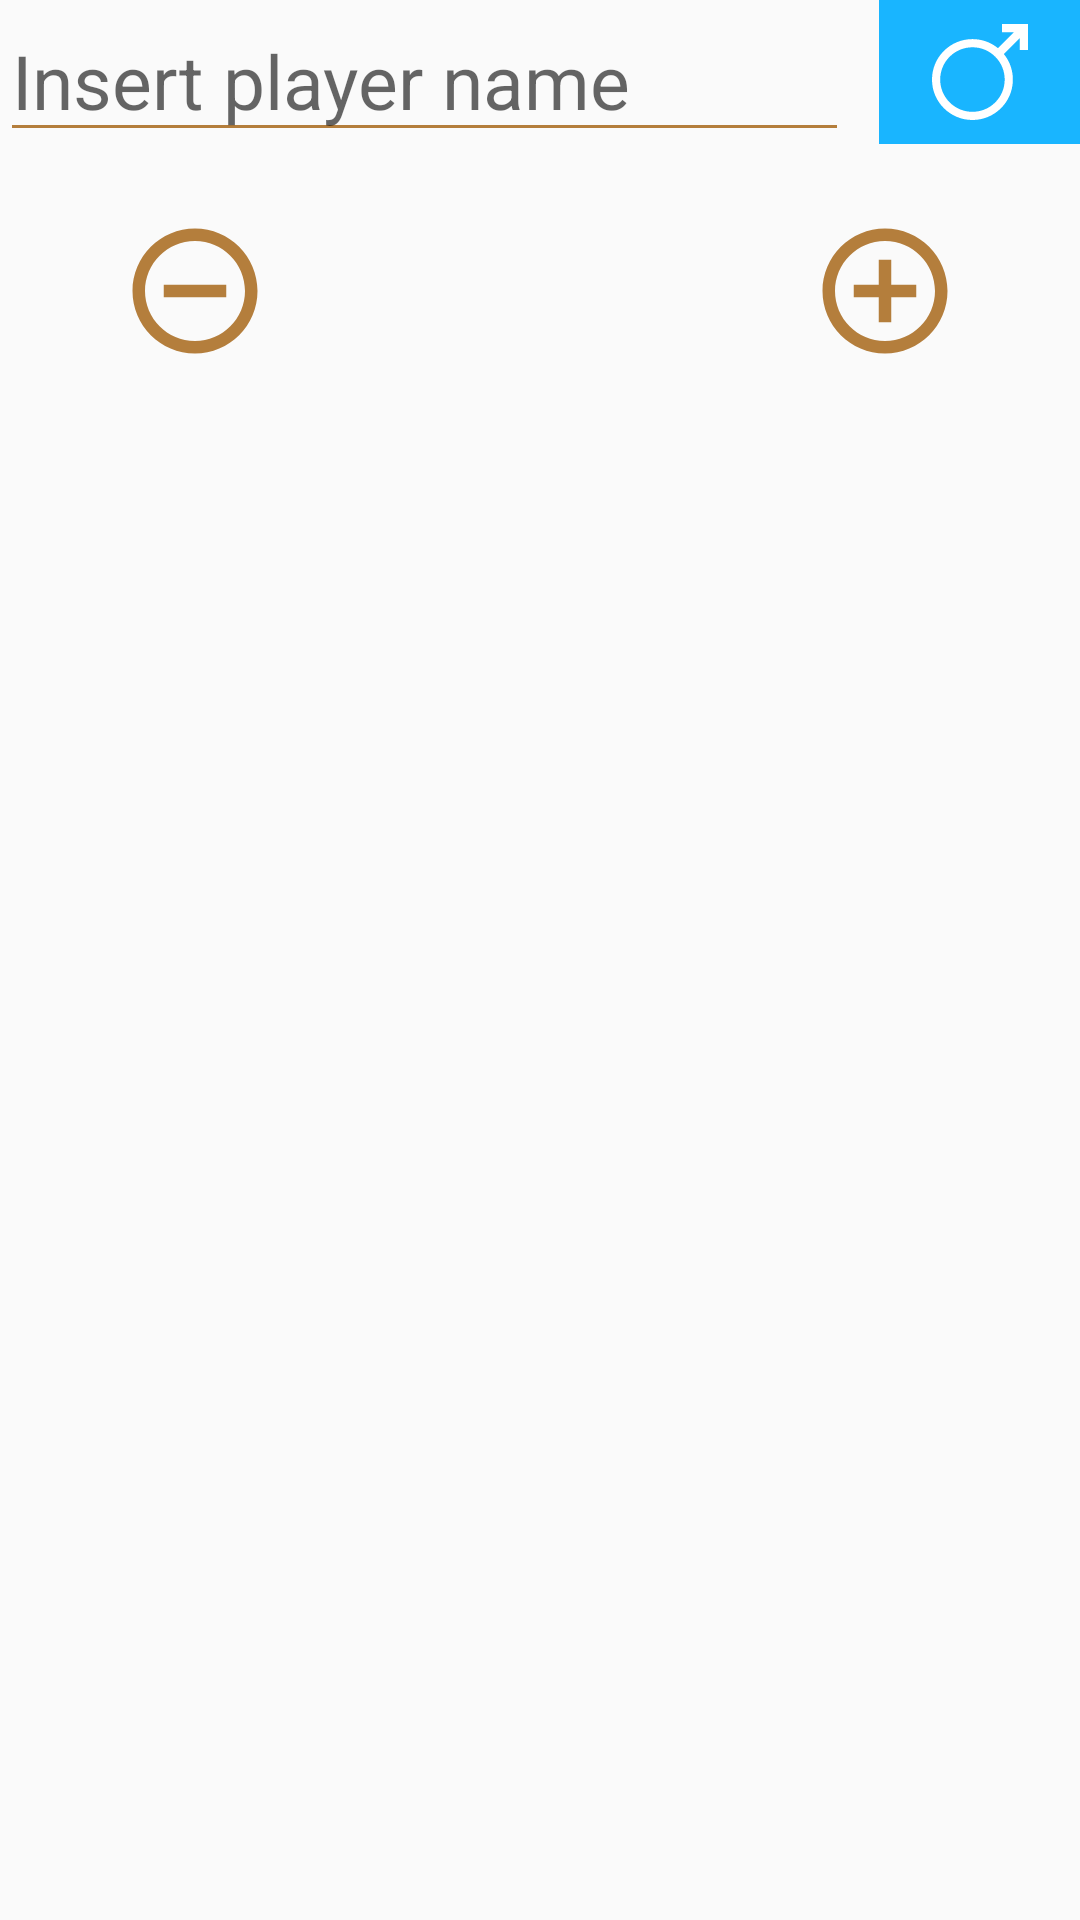

Where icons sit on this 1080*1920 app screen, as (x1,y1,x2,y2):
Add level: (822,228,948,354)
Remove level: (132,228,258,354)
Sex: (879,0,1080,144)
